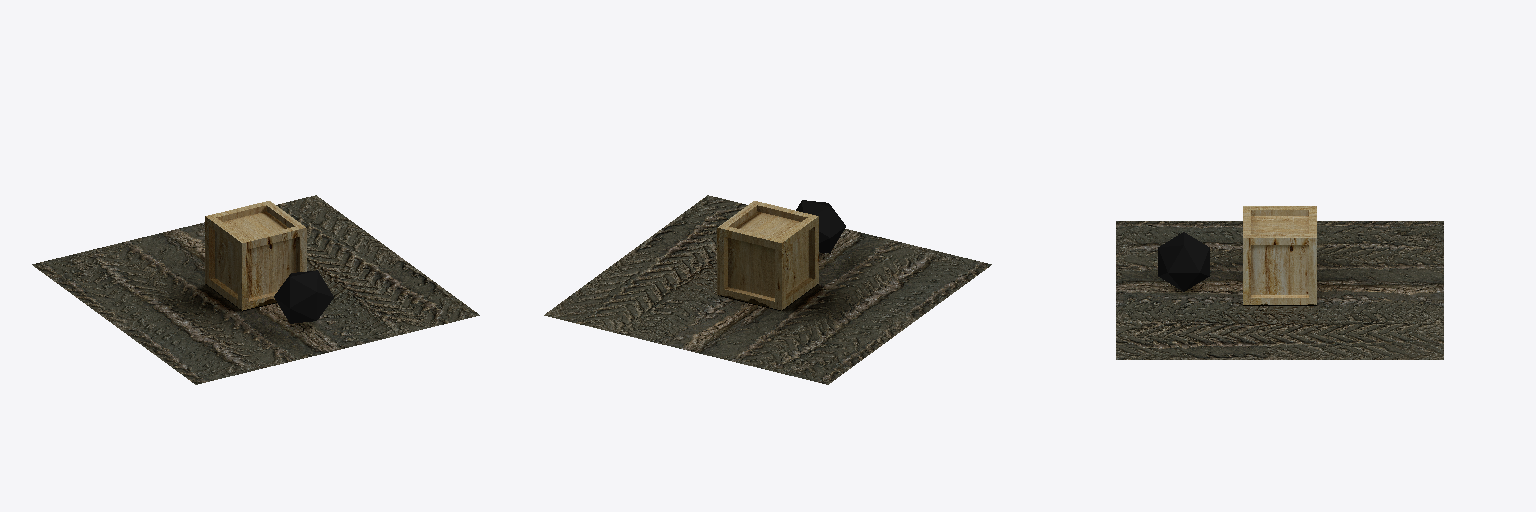
The picture shows the model from 3 angles: view 1: azimuth 30°, elevation 25°; view 2: azimuth 150°, elevation 25°; view 3: azimuth 270°, elevation 25°; orthographic projection.
Visible parts, largest first — view 1: Plane, Cube.1, Platonic; view 2: Plane, Cube.1, Platonic; view 3: Plane, Cube.1, Platonic.
Part boxes in pixels (x1,y1,x2,y2): Plane: (32, 195, 479, 384); Cube.1: (205, 201, 306, 310); Platonic: (274, 270, 333, 323); Plane: (544, 195, 991, 384); Cube.1: (717, 201, 818, 310); Platonic: (796, 200, 845, 253); Plane: (1116, 221, 1443, 359); Cube.1: (1243, 206, 1316, 304); Platonic: (1158, 232, 1209, 291).
Bounding box in the file's own units: 886 × 202 × 886.
Materials: 3 (2 with a texture image).